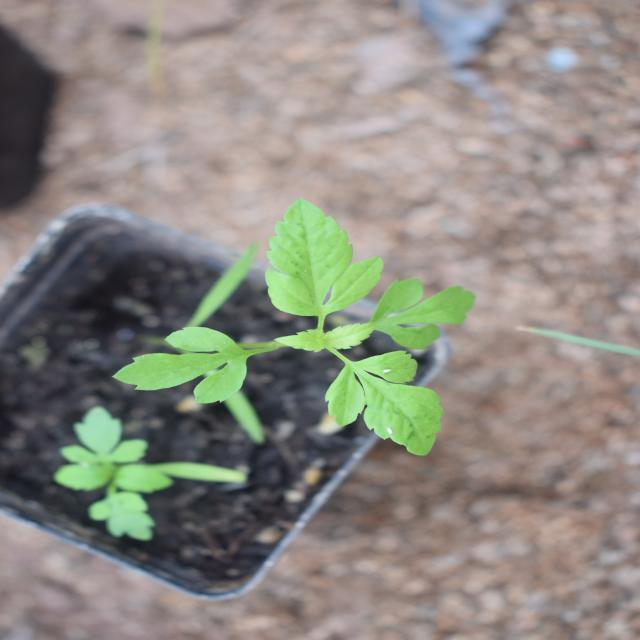Bidens pilosa: (194, 109, 438, 489)
